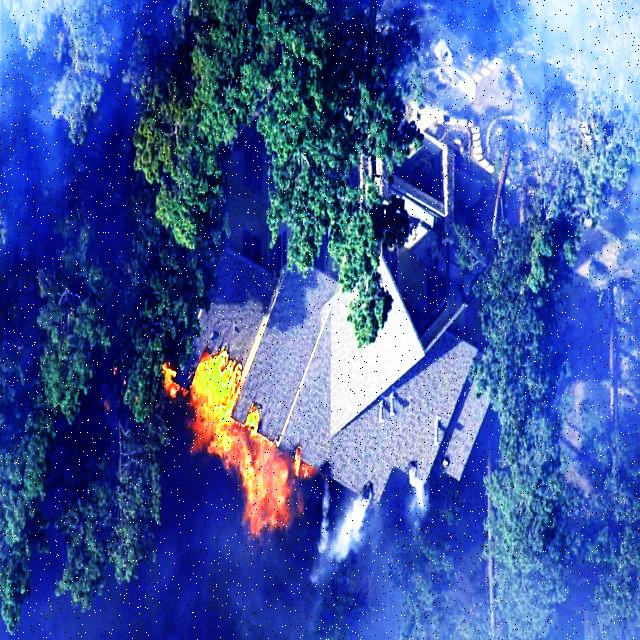api: (198, 346, 282, 498), (253, 454, 307, 540)
asap: (3, 2, 104, 226), (495, 3, 640, 135), (322, 480, 382, 571), (410, 474, 438, 528)
